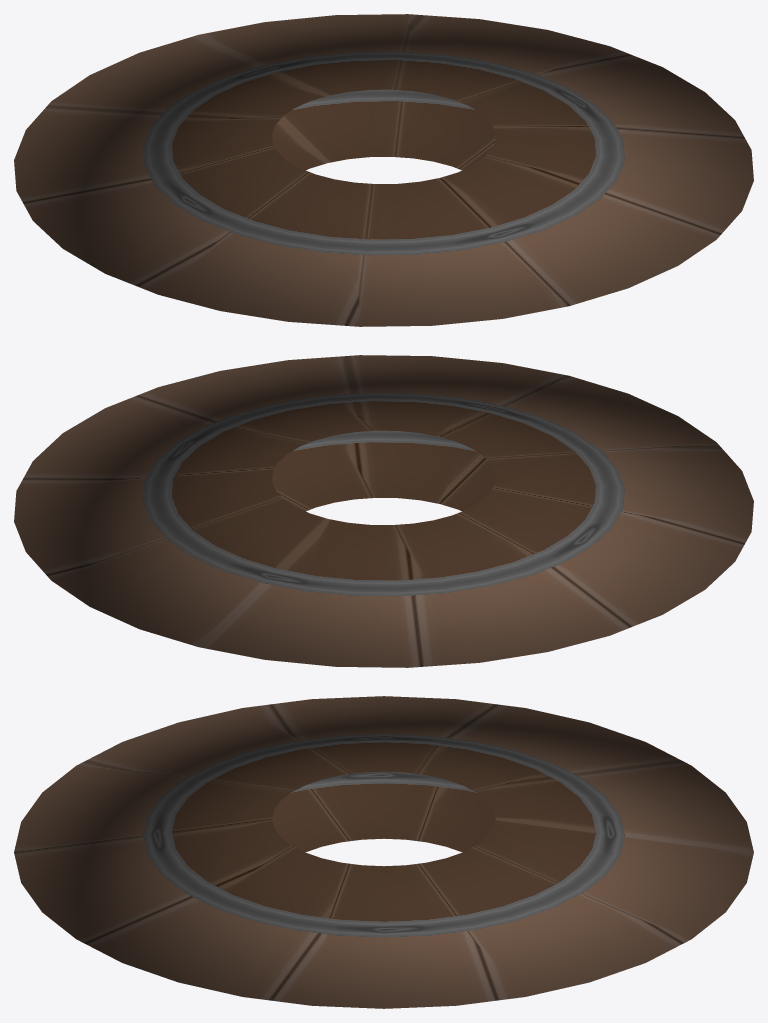
File: Slash.fbx
3 views of the same model, one above another, from view 1: azimuth 30°, elevation 25°; view 2: azimuth 150°, elevation 25°; view 3: azimuth 270°, elevation 25° (orthographic).
Parts seen in each view (by area): view 1: Slash; view 2: Slash; view 3: Slash.
Part boxes in pixels (x1,y1,x2,y2): Slash: [14, 14, 753, 326]; Slash: [14, 355, 753, 667]; Slash: [14, 696, 753, 1008].
Size of the model in its own units: 494 by 49.43 by 494.
